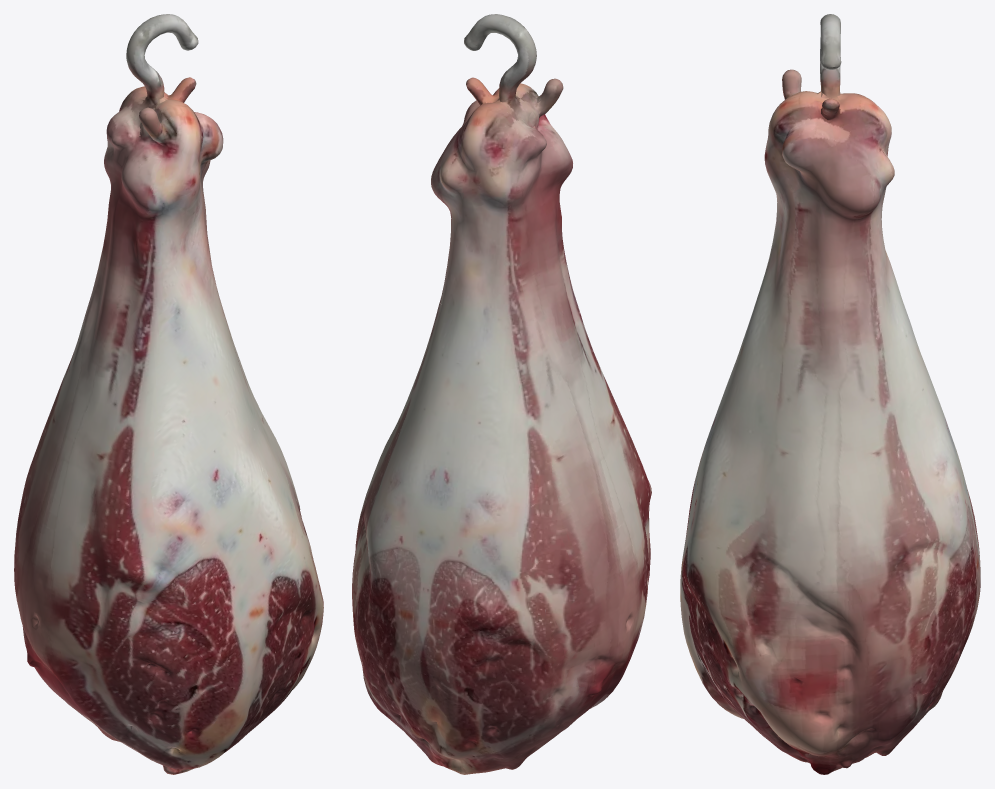
The model's file is beef-quarter.glb.
The picture shows the model from 3 angles, left to right: view 1: azimuth 30°, elevation 25°; view 2: azimuth 150°, elevation 25°; view 3: azimuth 270°, elevation 25°; orthographic projection. The views are drawn at different scales.
Parts seen in each view (by area): view 1: cowninja-beef-quarter; view 2: cowninja-beef-quarter; view 3: cowninja-beef-quarter.
Boxes of the visible parts, left/top/right/bottom form: cowninja-beef-quarter: left=14, top=14, right=323, bottom=774; cowninja-beef-quarter: left=352, top=14, right=651, bottom=774; cowninja-beef-quarter: left=680, top=14, right=980, bottom=774.
Bounding box in the file's own units: 0.4338 × 1.2 × 0.4453.
1 material, 1 textured.
